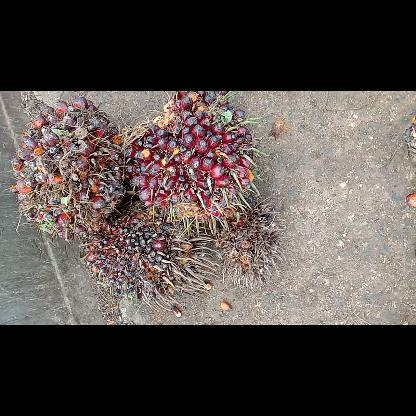TBS abnormal: (76, 197, 220, 315), (209, 202, 288, 288)
TBS masak: (123, 92, 263, 238), (10, 94, 128, 244)
